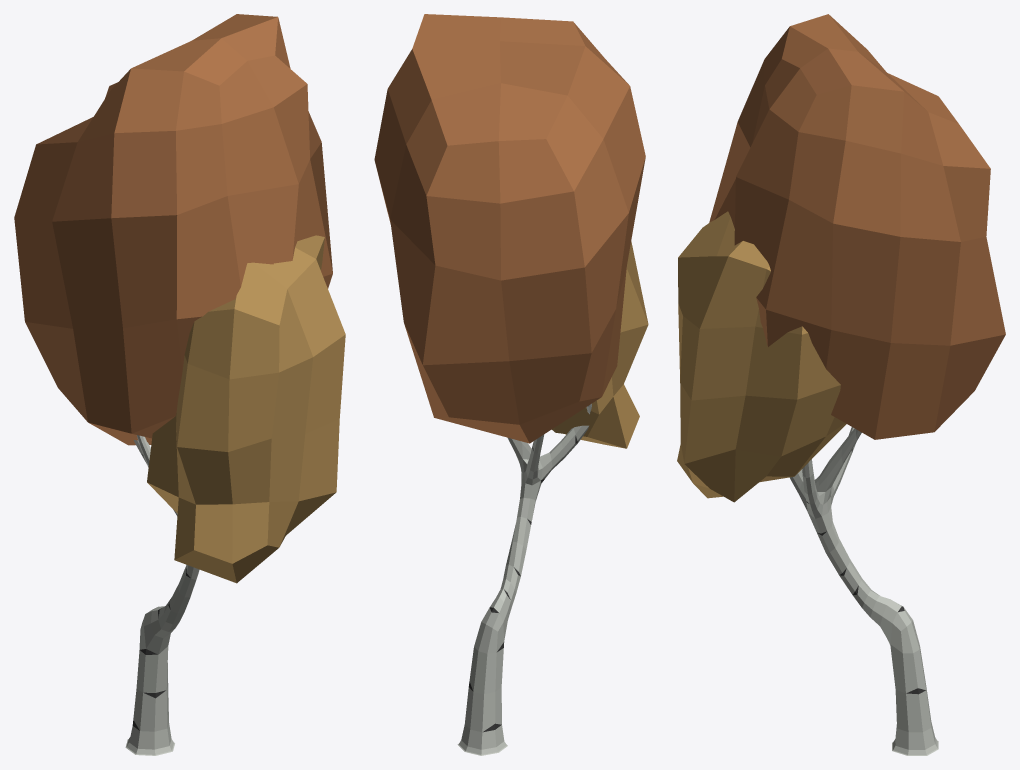
The model's file is birch_autumn2.glb.
The picture shows the model from 3 angles, left to right: view 1: azimuth 30°, elevation 25°; view 2: azimuth 150°, elevation 25°; view 3: azimuth 270°, elevation 25°; orthographic projection. The views are drawn at different scales.
Parts seen in each view (by area): view 1: BirchTree_Autumn_2; view 2: BirchTree_Autumn_2; view 3: BirchTree_Autumn_2.
Boxes of the visible parts, x1=… form: BirchTree_Autumn_2: x1=14, y1=14, x2=345, y2=755; BirchTree_Autumn_2: x1=374, y1=14, x2=648, y2=755; BirchTree_Autumn_2: x1=677, y1=14, x2=1005, y2=755.
Bounding box in the file's own units: 1.47 × 4.03 × 1.69.
